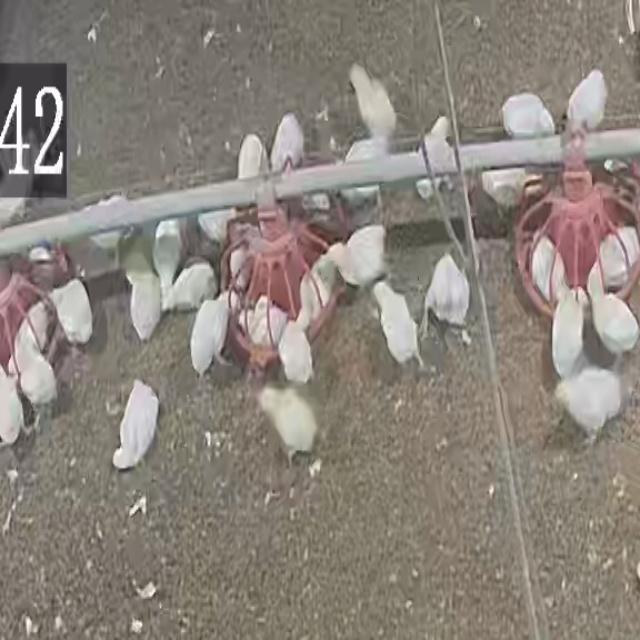chicken: (555, 369, 620, 445), (255, 388, 323, 459), (370, 284, 421, 373), (115, 380, 161, 473), (349, 53, 398, 136), (422, 253, 471, 335), (190, 293, 238, 376), (330, 226, 388, 286), (592, 276, 634, 357), (339, 133, 390, 199), (15, 332, 56, 412), (413, 116, 452, 196), (51, 278, 93, 348), (294, 256, 335, 325), (555, 289, 585, 379), (502, 94, 557, 143), (594, 229, 639, 287), (481, 161, 525, 219), (5, 307, 48, 366), (236, 297, 287, 346), (569, 72, 608, 135), (530, 239, 567, 304), (0, 364, 29, 446), (270, 109, 301, 181), (166, 262, 211, 310), (275, 325, 309, 385), (232, 132, 268, 184), (127, 277, 159, 334), (157, 218, 182, 284), (199, 208, 230, 245), (228, 243, 249, 291)
